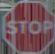Stop: (3, 2, 53, 51)
